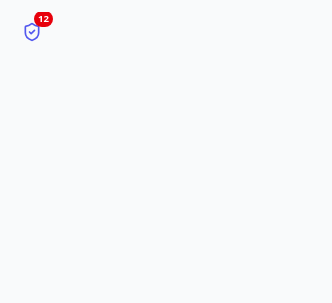
Test case: AdblockButton › shows the blocked count and toggles the current site
Later steps or results of the test are not shown.
Expected: the text with test id "blocked-badge" reads "12", x1=38 y1=12 x2=49 y2=25
Click the button named "Ad blocking on, 12 requests blocked".
click(32, 32)  # box x1=12 y1=12 x2=52 y2=52
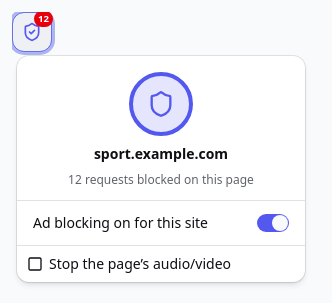
Result: the checkbox "Ad blocking on for this site" is shown at x1=33 y1=213 x2=208 y2=232
Result: the text "12 requests blocked on this page" is shown at x1=68 y1=172 x2=254 y2=188
